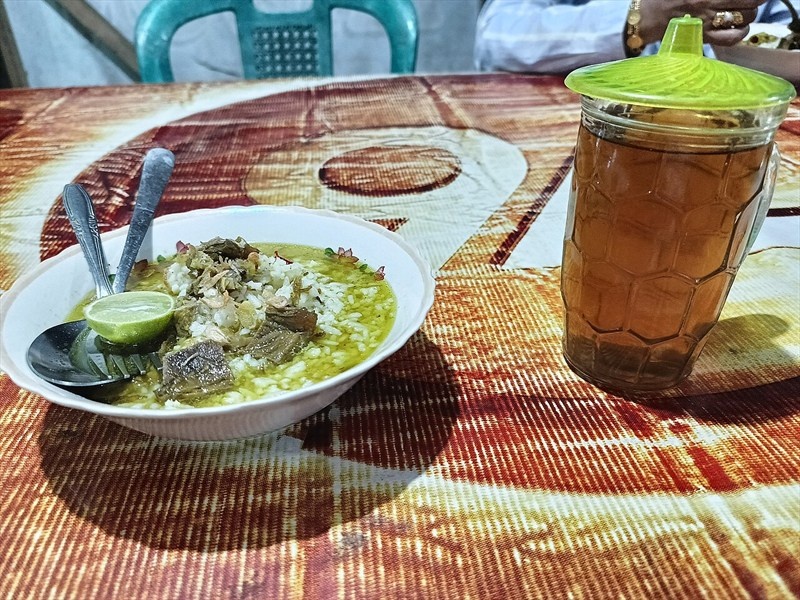Soto Ayam: (42, 14, 758, 551)
